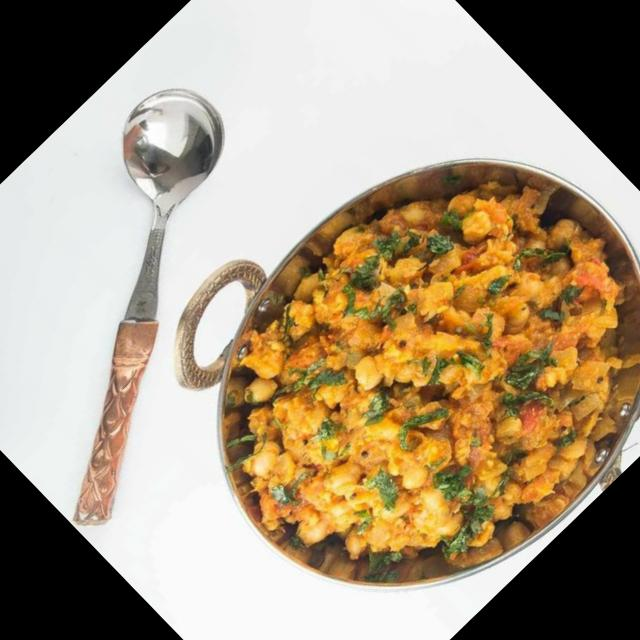Chole: (153, 107, 640, 640)
